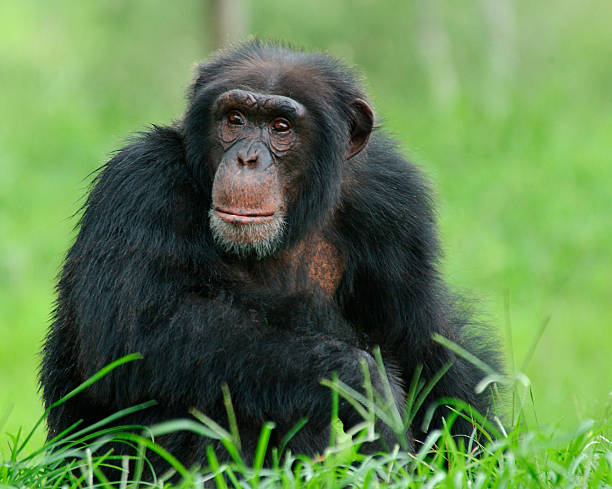chimpanzee: (179, 25, 383, 308)
